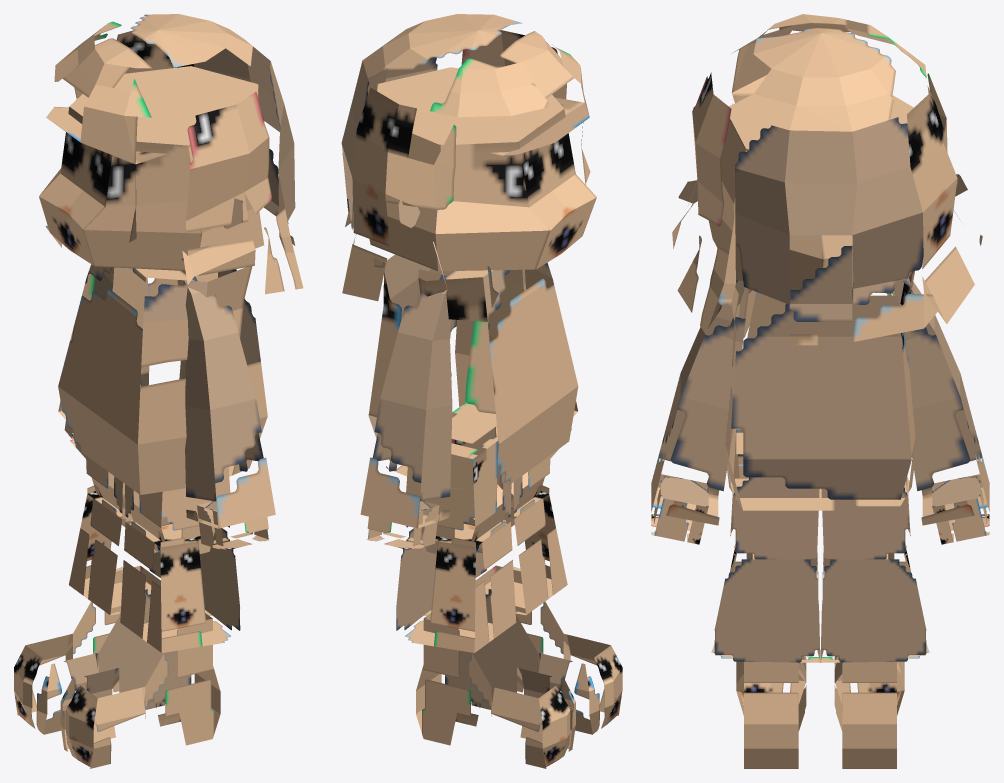
The model's file is penelope.fbx.
3 renders of one model, left to right at view 1: azimuth 30°, elevation 25°; view 2: azimuth 150°, elevation 25°; view 3: azimuth 270°, elevation 25°, orthographic. The views are drawn at different scales.
Parts seen in each view (by area): view 1: hair, torso.001, head_mesh, arm, shoe, lower_leg.001, shoe.001, lower_leg.002, upper_leg, arm.001, cuboid, cylinder (+2 smaller); view 2: hair, head_mesh, torso.001, arm.001, shoe.001, lower_leg.002, shoe, upper_leg.001, lower_leg.001, upper_leg, cuboid.001, arm (+2 smaller); view 3: hair, torso.001, arm, lower_leg.001, lower_leg.002, arm.001, head_mesh, shoe, shoe.001, upper_leg, upper_leg.001, cuboid (+1 smaller).
Boxes of the visible parts, x1,y1,x2,y2 form: hair: (45, 14, 303, 294); torso.001: (58, 264, 267, 494); head_mesh: (39, 66, 263, 270); arm: (183, 272, 275, 528); shoe: (60, 613, 220, 768); lower_leg.001: (120, 522, 240, 652); shoe.001: (14, 565, 165, 734); lower_leg.002: (69, 494, 160, 615); upper_leg: (125, 467, 230, 547); arm.001: (58, 267, 149, 419); cuboid: (197, 501, 269, 549); cylinder: (131, 490, 214, 553); hair: (341, 14, 590, 307); head_mesh: (369, 67, 596, 271); torso.001: (368, 254, 578, 489); arm.001: (360, 269, 452, 528); shoe.001: (416, 613, 575, 768); lower_leg.002: (396, 522, 516, 652); shoe: (471, 565, 622, 734); upper_leg.001: (406, 416, 511, 547); lower_leg.001: (475, 494, 567, 615); upper_leg: (452, 387, 550, 518); cuboid.001: (366, 501, 439, 549); arm: (488, 269, 577, 416); hair: (672, 14, 982, 345); torso.001: (725, 270, 915, 510); arm: (651, 279, 748, 525); lower_leg.001: (711, 548, 820, 662); lower_leg.002: (820, 548, 929, 662); arm.001: (892, 278, 989, 525); head_mesh: (709, 94, 913, 289); shoe: (736, 656, 806, 768); shoe.001: (834, 656, 904, 768); upper_leg: (730, 429, 819, 559); upper_leg.001: (821, 477, 910, 559); cuboid: (651, 474, 708, 544).
Bounding box in the file's own units: 133 × 356 × 150.
12 materials, 12 textured.
